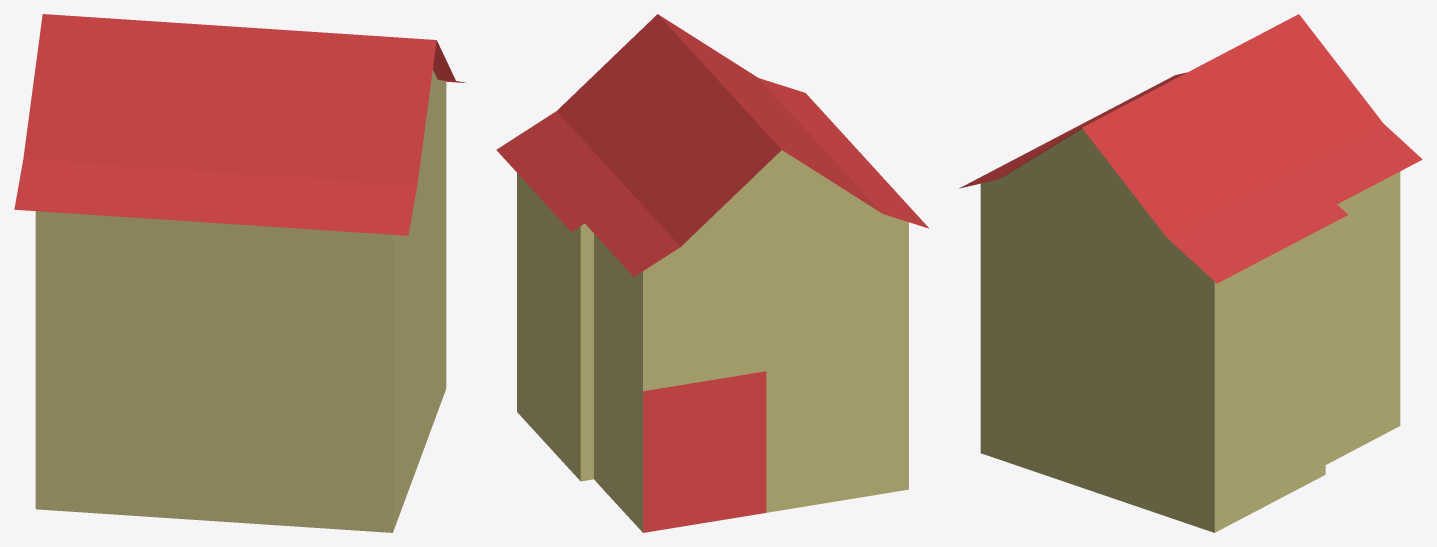
3 renders of one model, left to right at view 1: azimuth 30°, elevation 25°; view 2: azimuth 150°, elevation 25°; view 3: azimuth 270°, elevation 25°, orthographic. The views are drawn at different scales.
Bounding box in the file's own units: 14.84 × 14.43 × 12.63.
